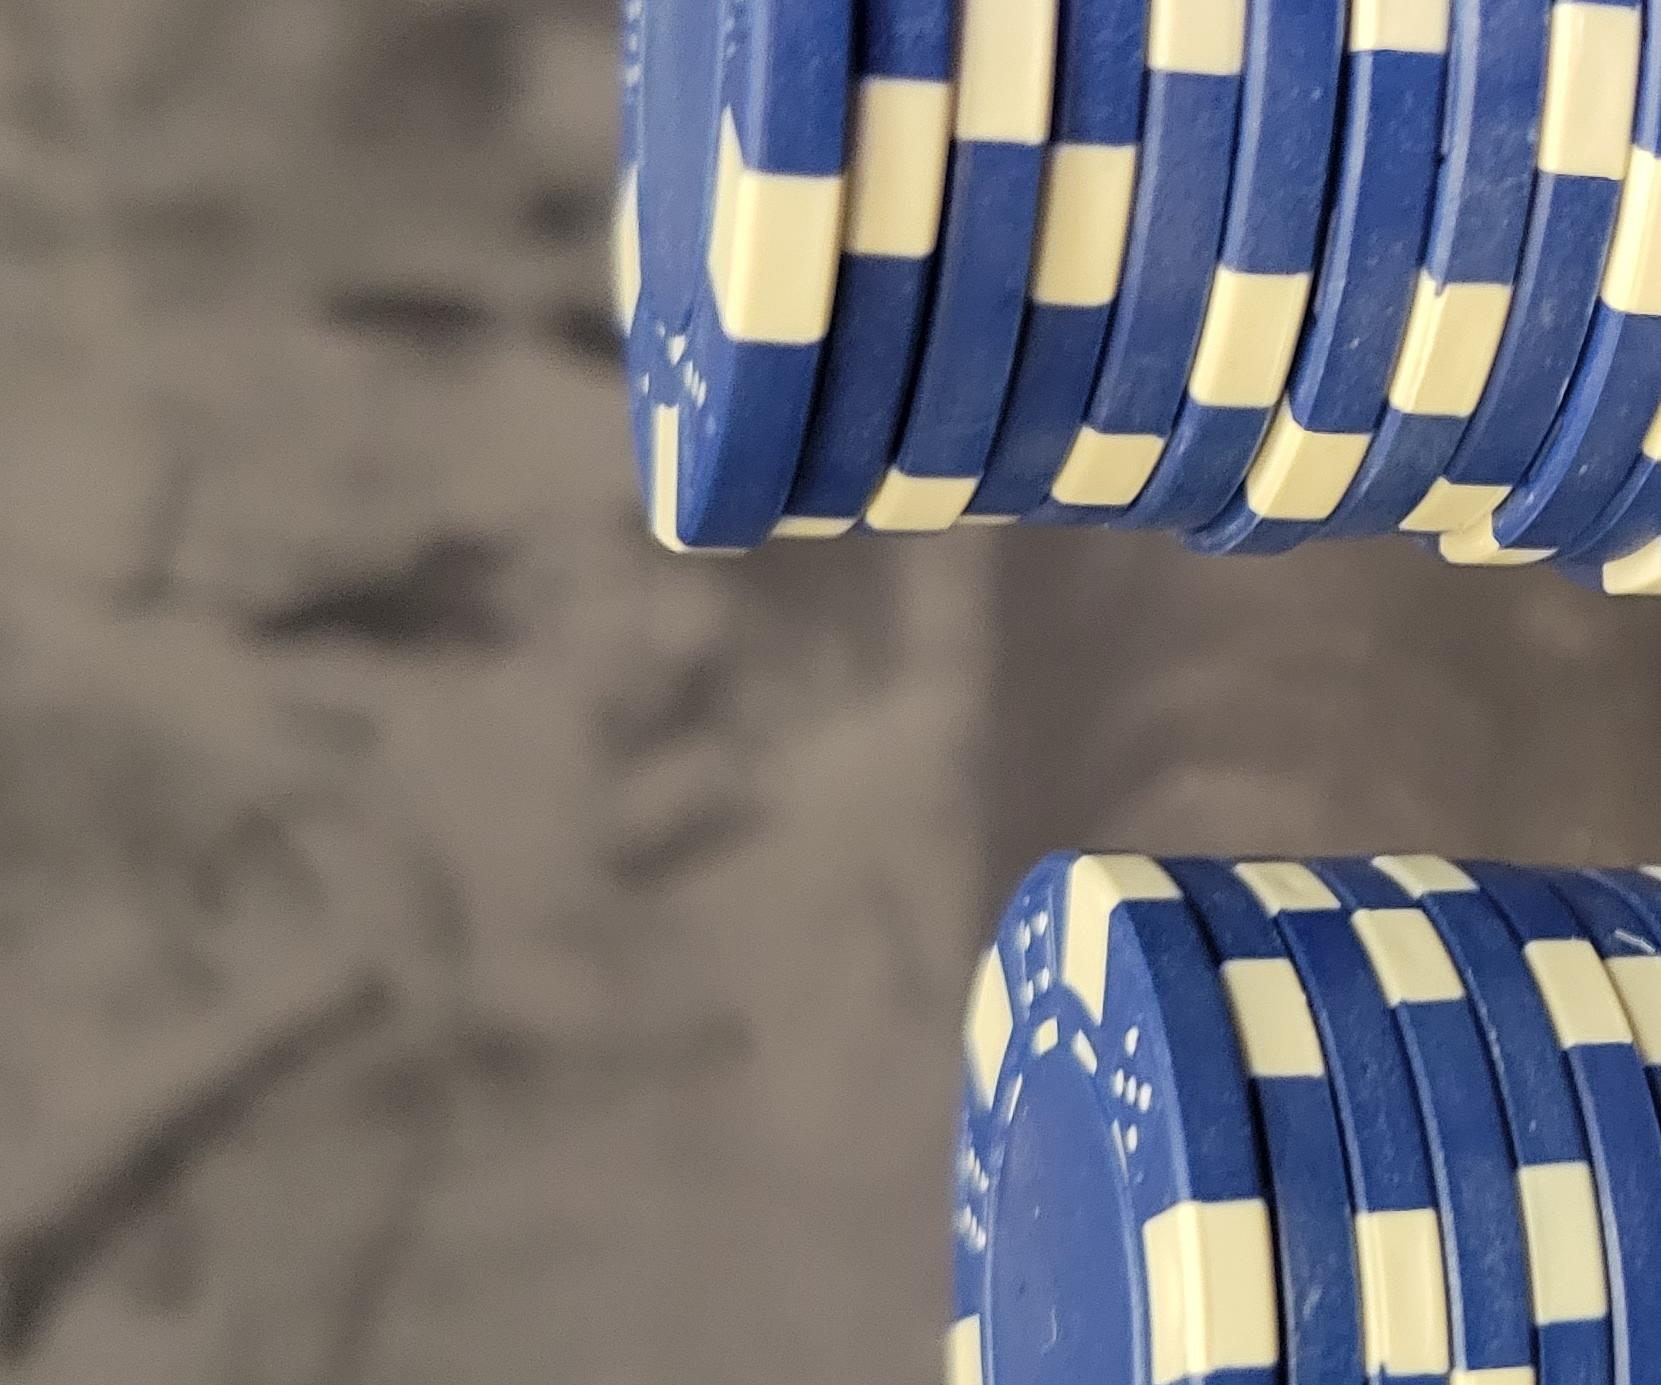Chip: (1, 281, 1175, 1385)
